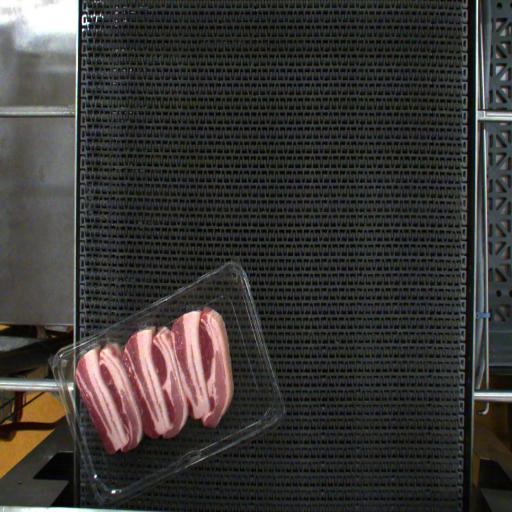packaging-error: (138, 318, 154, 332)
